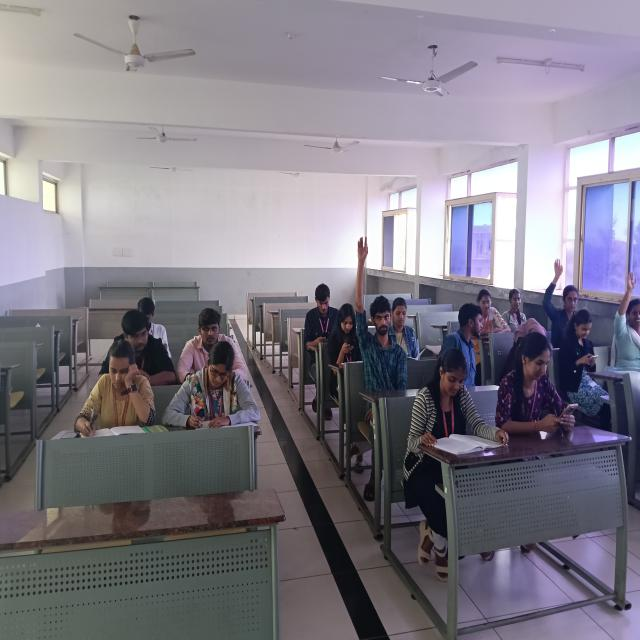Hand Rising: (350, 232, 406, 376), (608, 266, 640, 368), (543, 254, 581, 332)
Reading: (404, 346, 508, 456), (390, 294, 428, 364)
Using Phone: (493, 326, 581, 427), (563, 307, 606, 382), (301, 282, 339, 346), (330, 302, 362, 367)
Writing: (70, 335, 159, 434), (166, 342, 264, 431)
